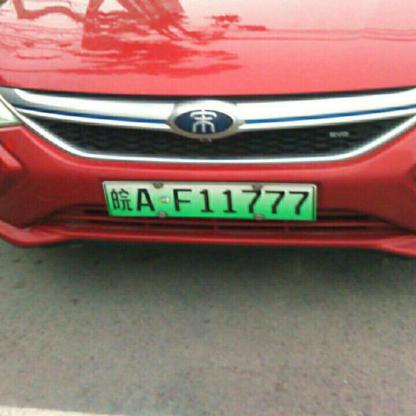lp: (104, 184, 312, 218)
